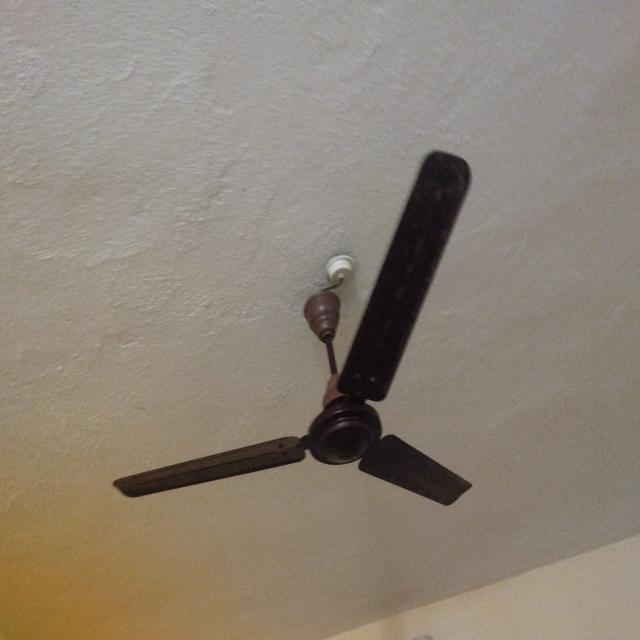fan_off: (110, 155, 474, 508)
